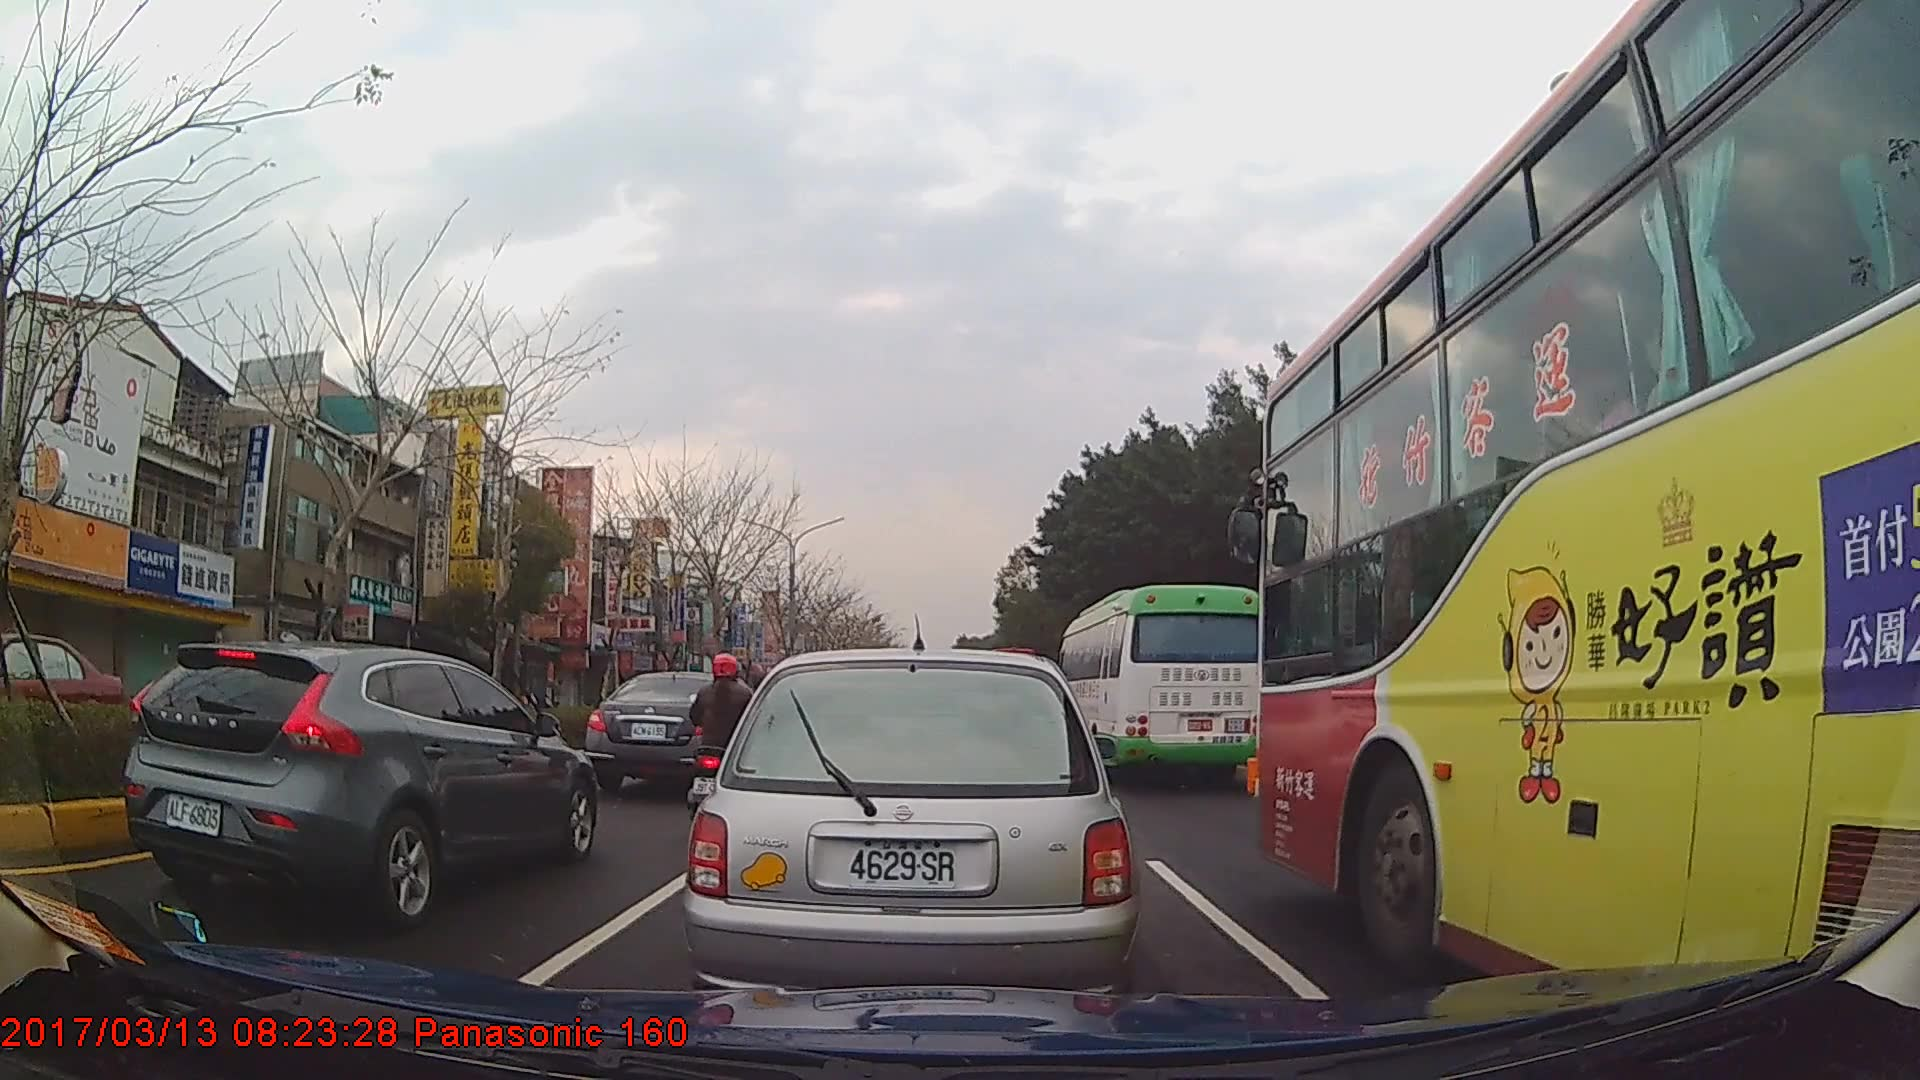rider: (686, 651, 766, 830)
vehicle: (1254, 0, 1920, 1000), (684, 641, 1139, 1014), (120, 639, 599, 931), (1055, 583, 1265, 783), (586, 669, 759, 793), (0, 632, 118, 752)
